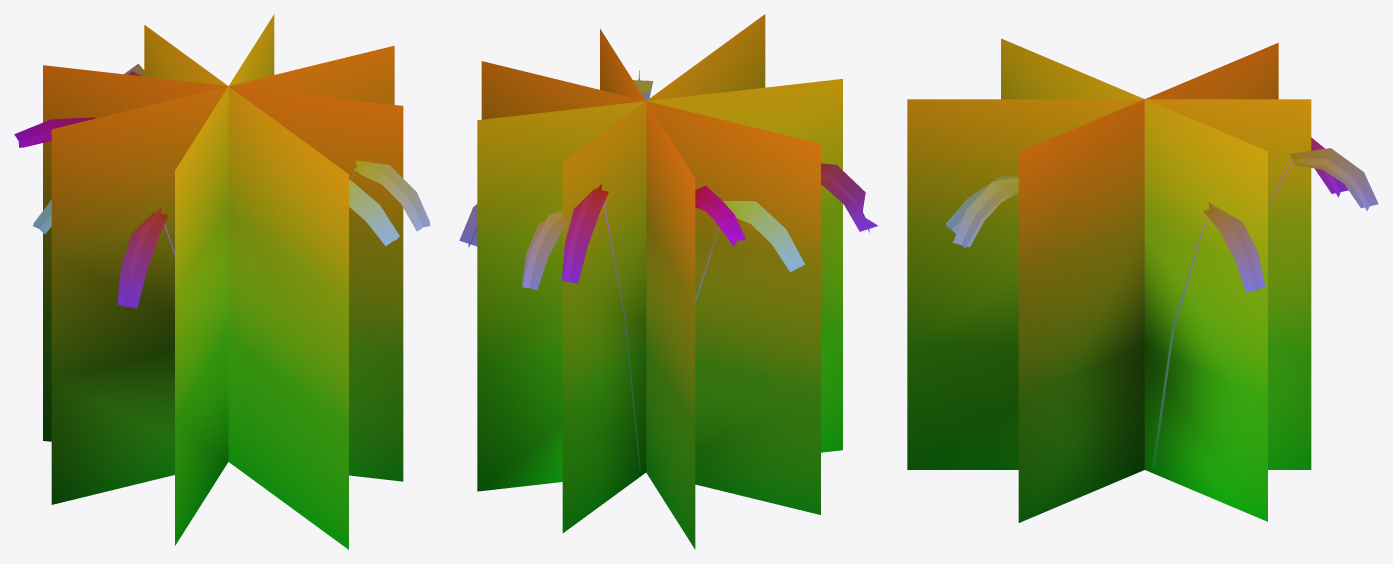
File: Rice_Ripe_B.fbx
The picture shows the model from 3 angles, left to right: view 1: azimuth 30°, elevation 25°; view 2: azimuth 150°, elevation 25°; view 3: azimuth 270°, elevation 25°; orthographic projection.
Visible parts, largest first — view 1: Rice_Ripe_B_LOD0; view 2: Rice_Ripe_B_LOD0; view 3: Rice_Ripe_B_LOD0.
Boxes of the visible parts, x1,y1,x2,y2 form: Rice_Ripe_B_LOD0: [14, 14, 430, 549]; Rice_Ripe_B_LOD0: [459, 14, 878, 549]; Rice_Ripe_B_LOD0: [907, 38, 1378, 522].
Size of what is drawn, in the model's own units: 0.9642 by 1 by 1.16.
